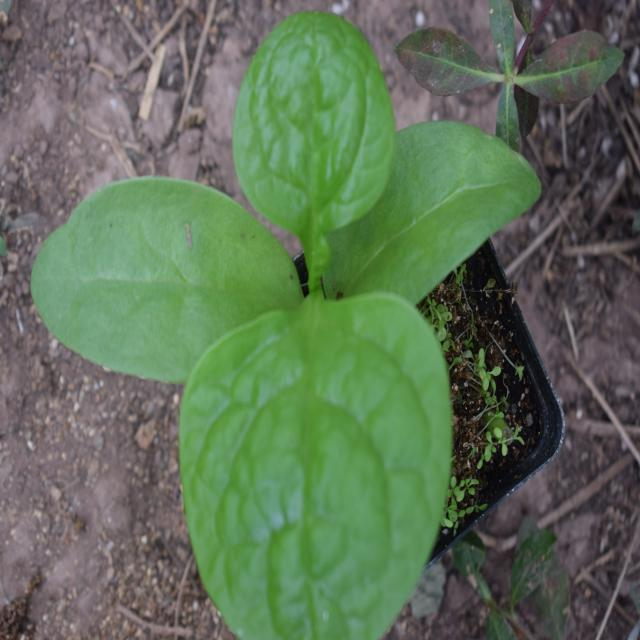Ceylon spinach: (35, 39, 507, 612)
